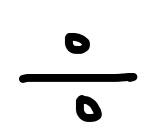div: (19, 33, 137, 122)
